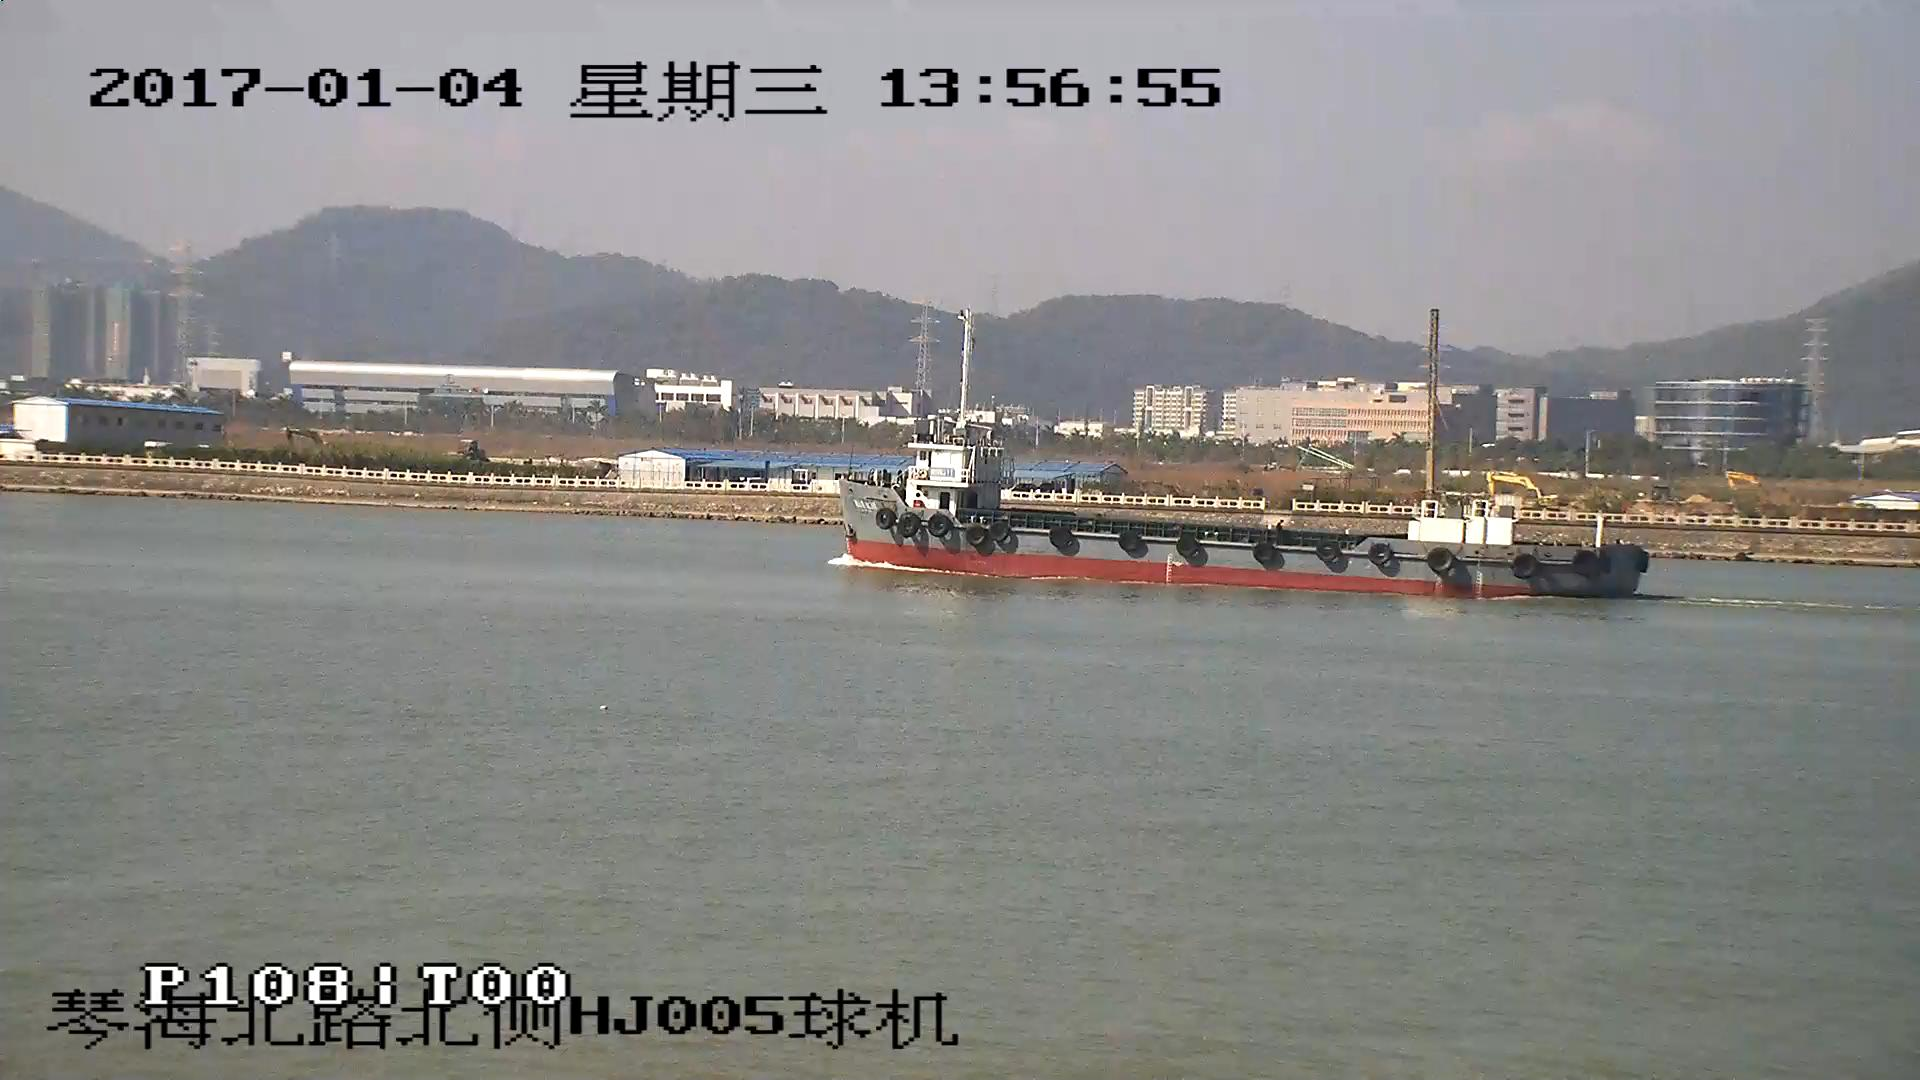general cargo ship: (831, 417, 1651, 603)
